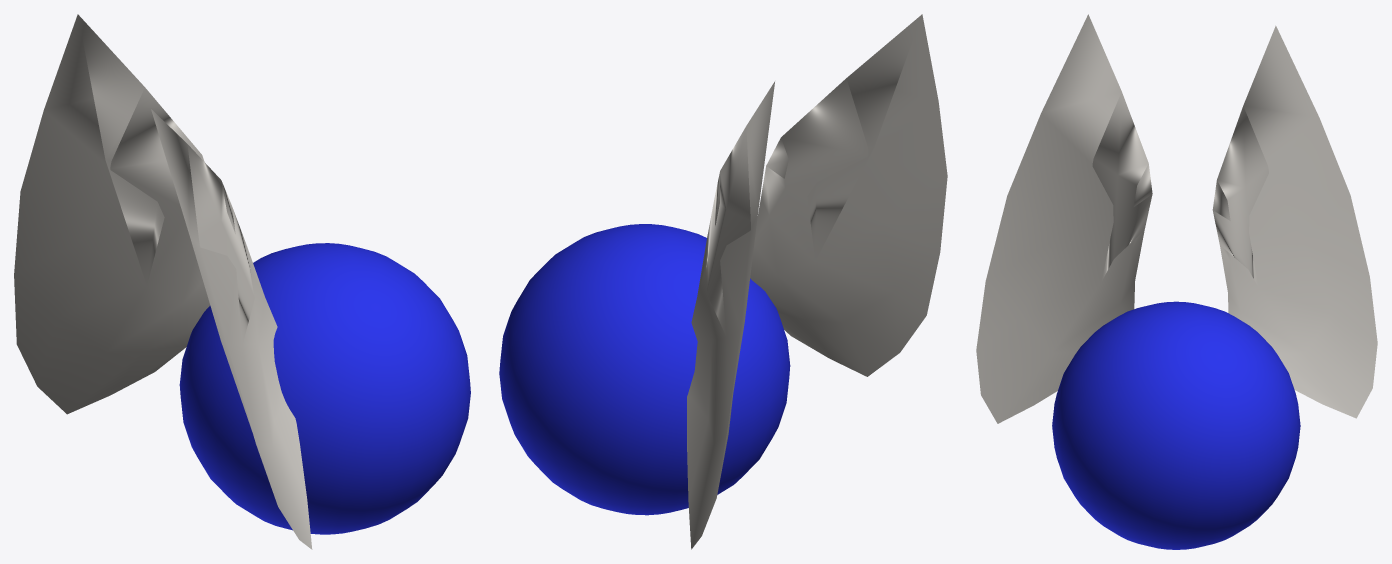
The model's file is Pixie.fbx.
The picture shows the model from 3 angles, left to right: view 1: azimuth 30°, elevation 25°; view 2: azimuth 150°, elevation 25°; view 3: azimuth 270°, elevation 25°; orthographic projection. The views are drawn at different scales.
Visible parts, largest first — view 1: Sphere, Plane, Plane.001; view 2: Sphere, Plane.001, Plane; view 3: Sphere, Plane.001, Plane.
Part boxes in pixels (<box>): Sphere: <box>179,243,470,534</box>; Plane: <box>14,14,209,414</box>; Plane.001: <box>151,109,312,549</box>; Sphere: <box>499,224,790,515</box>; Plane.001: <box>750,14,947,376</box>; Plane: <box>687,81,774,549</box>; Sphere: <box>1052,301,1300,549</box>; Plane.001: <box>976,14,1152,423</box>; Plane: <box>1212,25,1377,418</box>.
Bounding box in the file's own units: 279 × 386 × 323.
